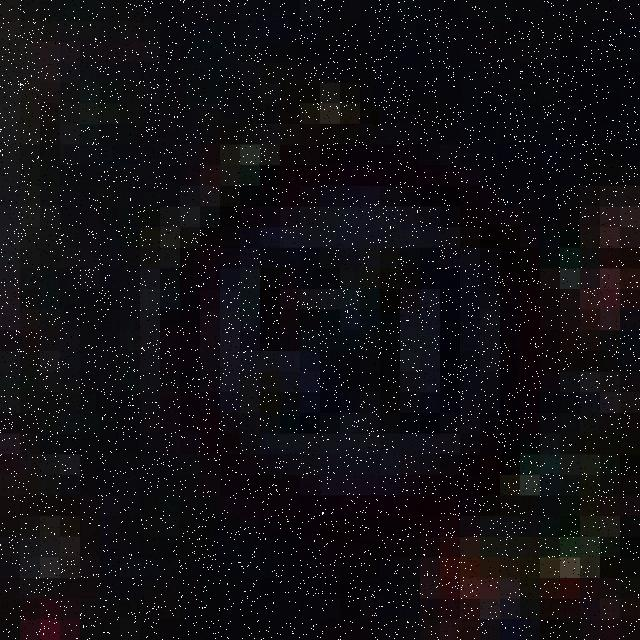Ograniczenie predkosci do 50: (157, 137, 547, 549)
